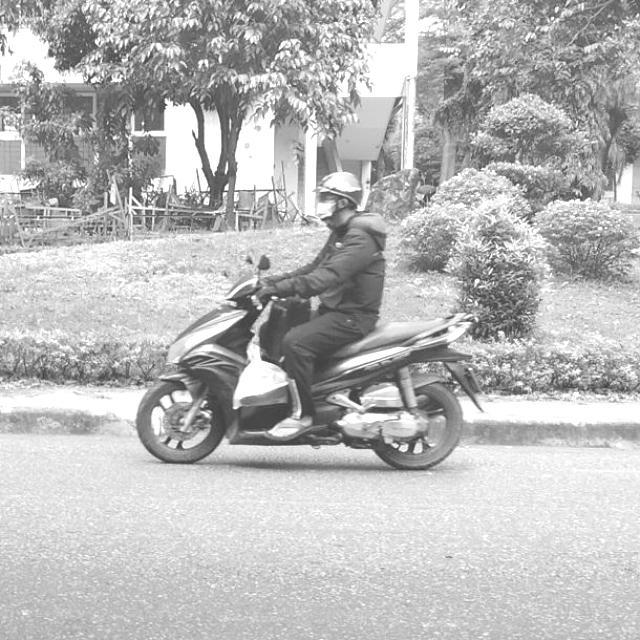Helmet: (313, 171, 365, 226)
